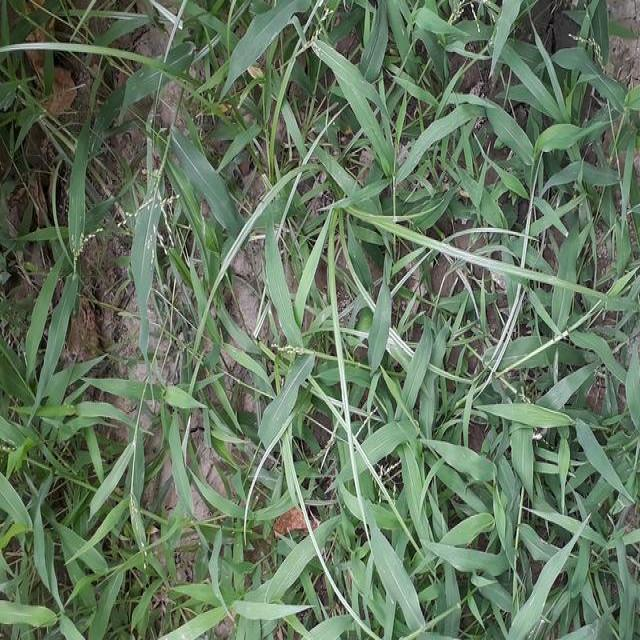weed: (258, 264, 634, 640), (335, 59, 640, 252), (6, 298, 125, 640)
